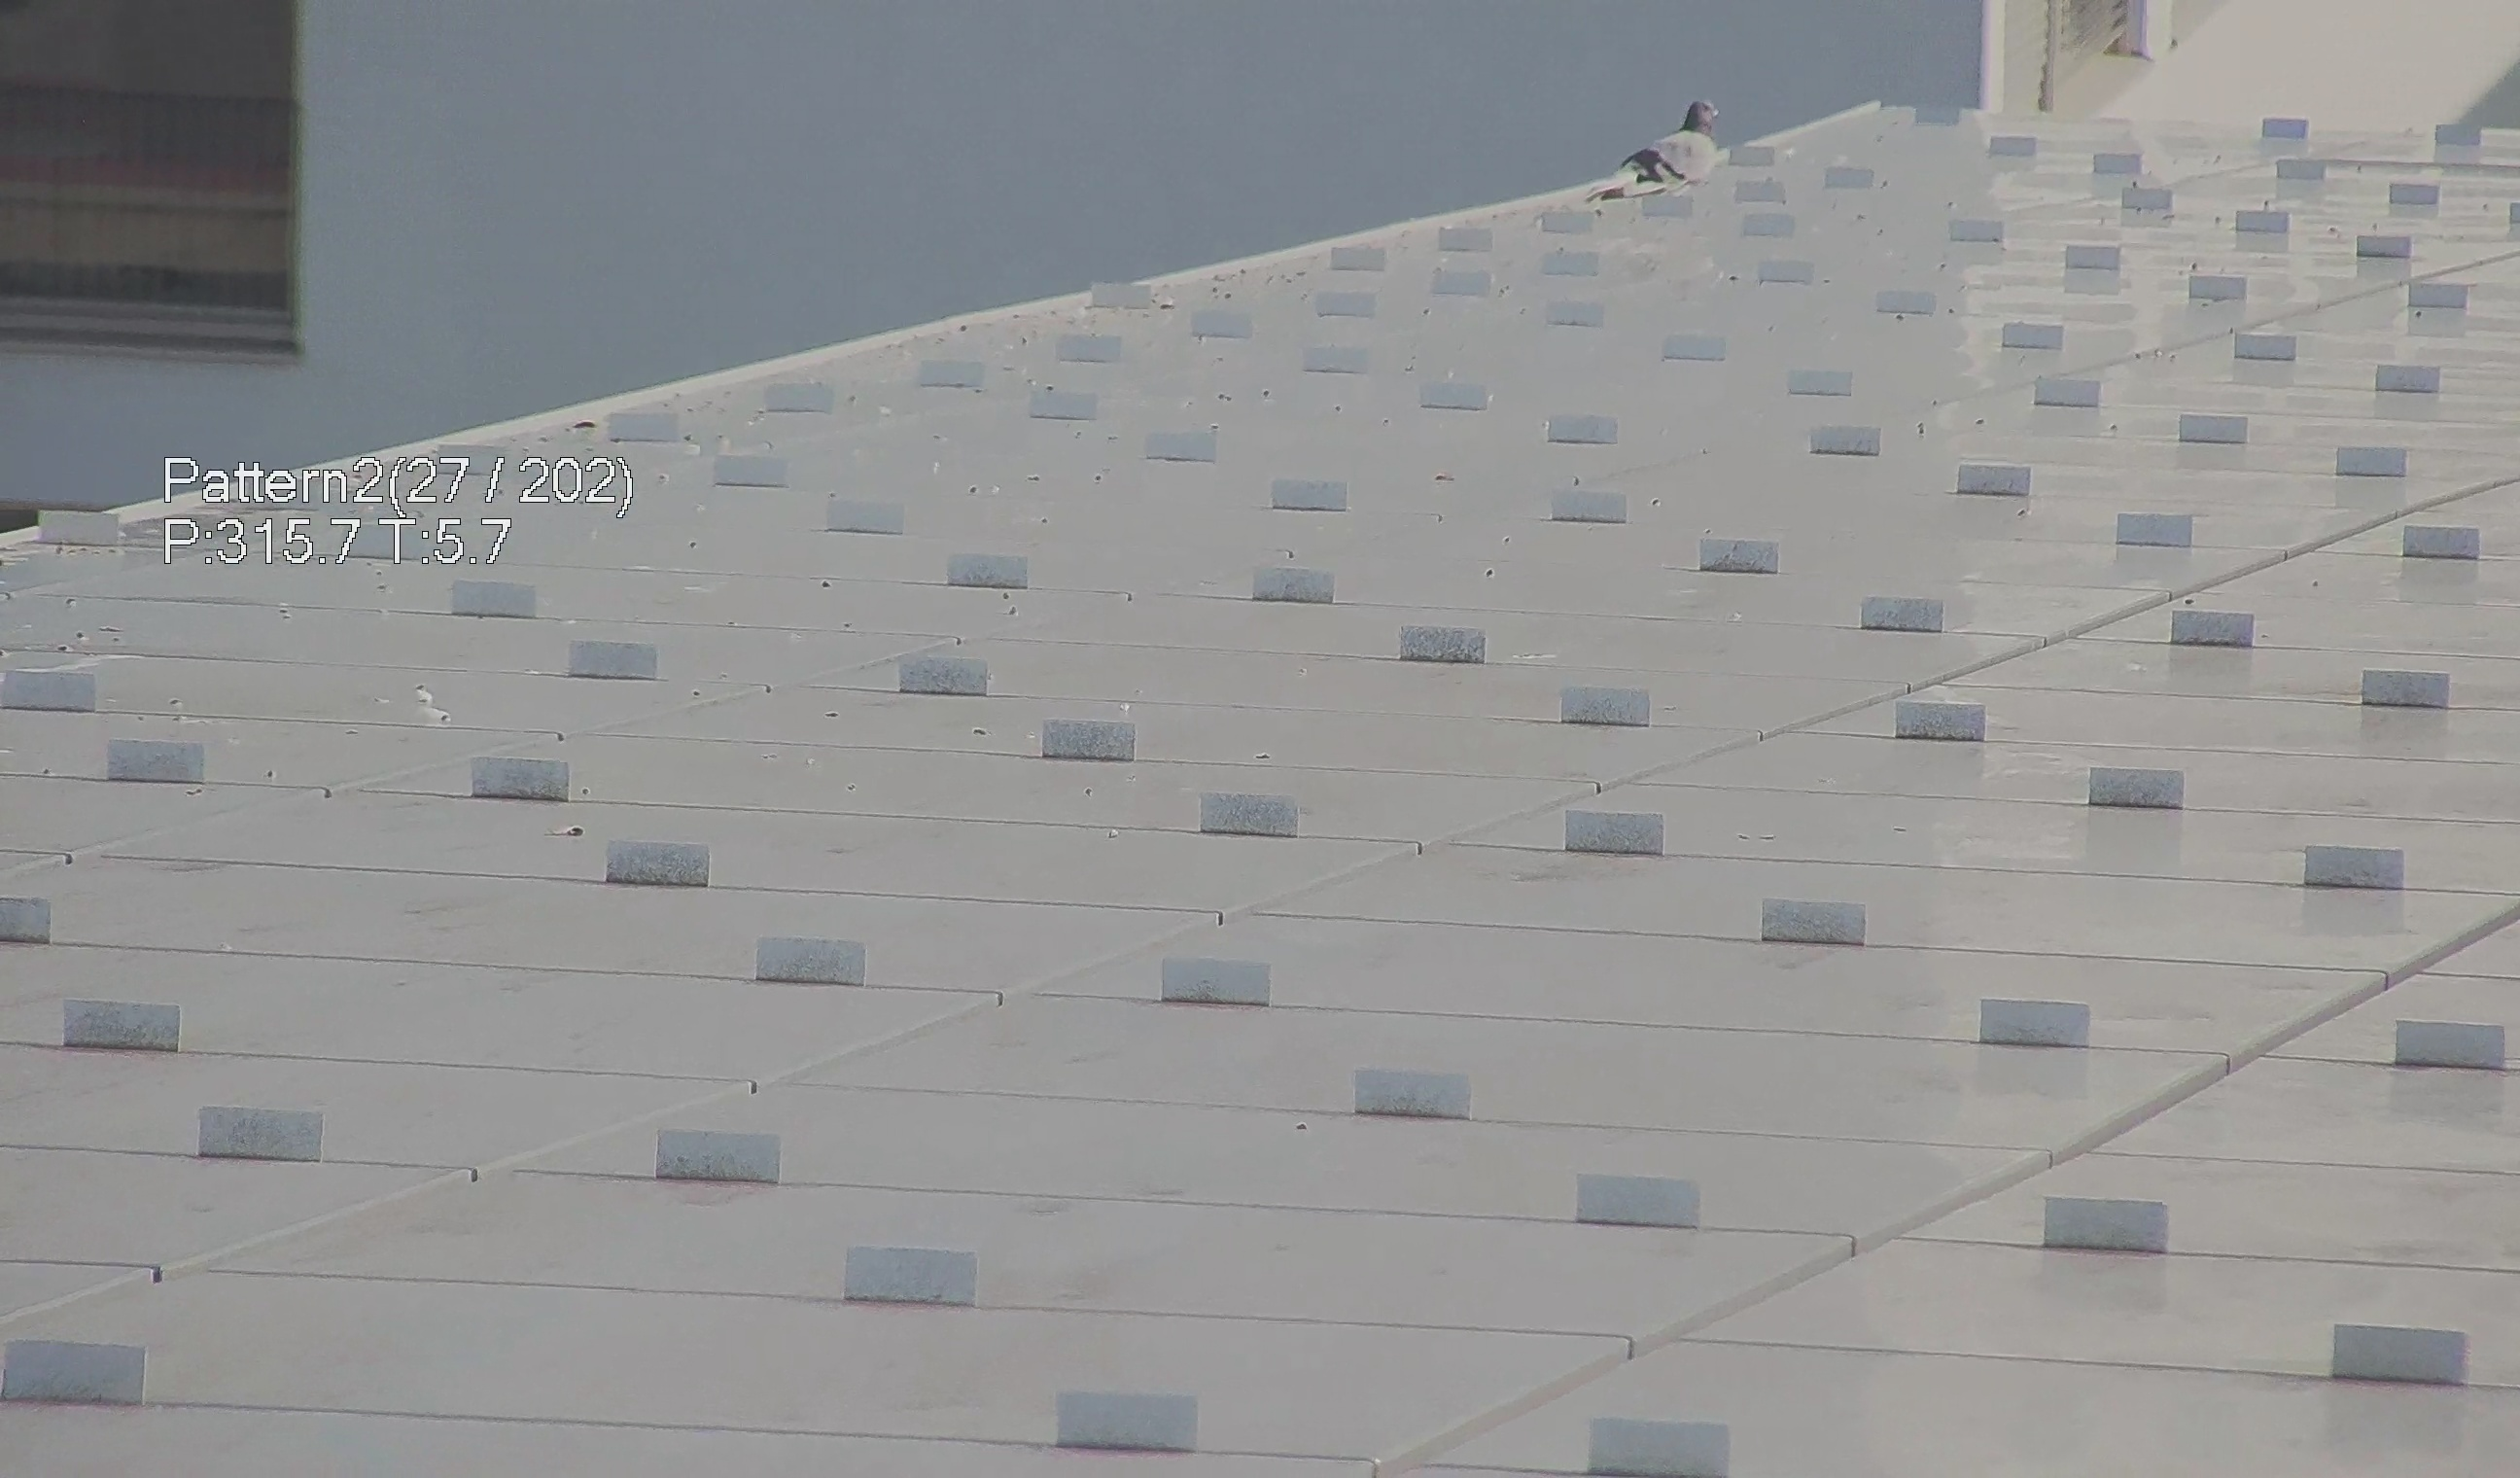Pigeon: (1599, 93, 1730, 202)
